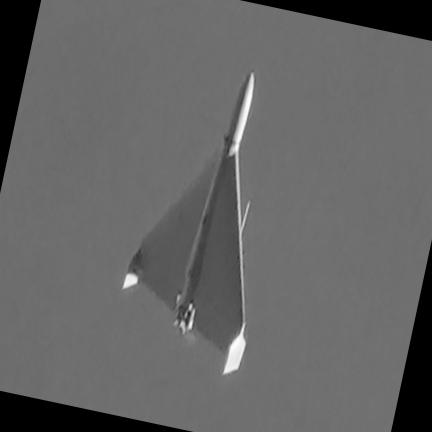Shahed: (123, 73, 254, 374)
